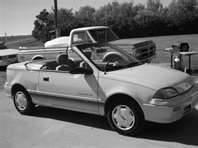car: (3, 42, 197, 138)
